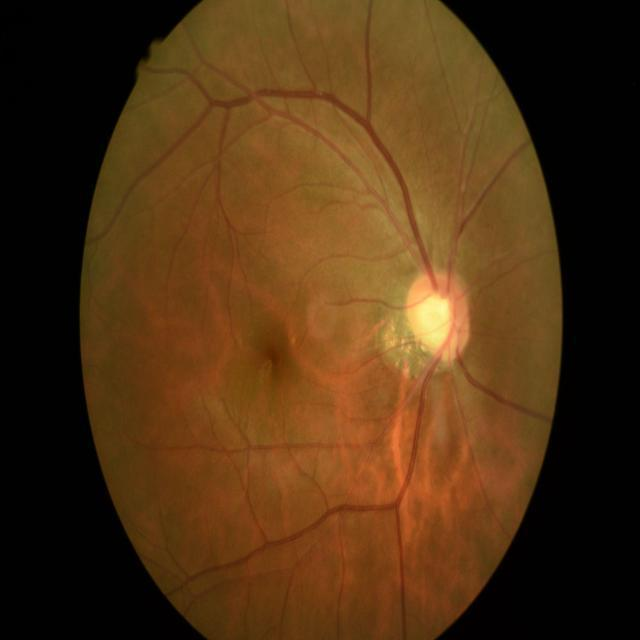cup: (418, 294, 457, 352)
disk: (404, 268, 472, 366)
